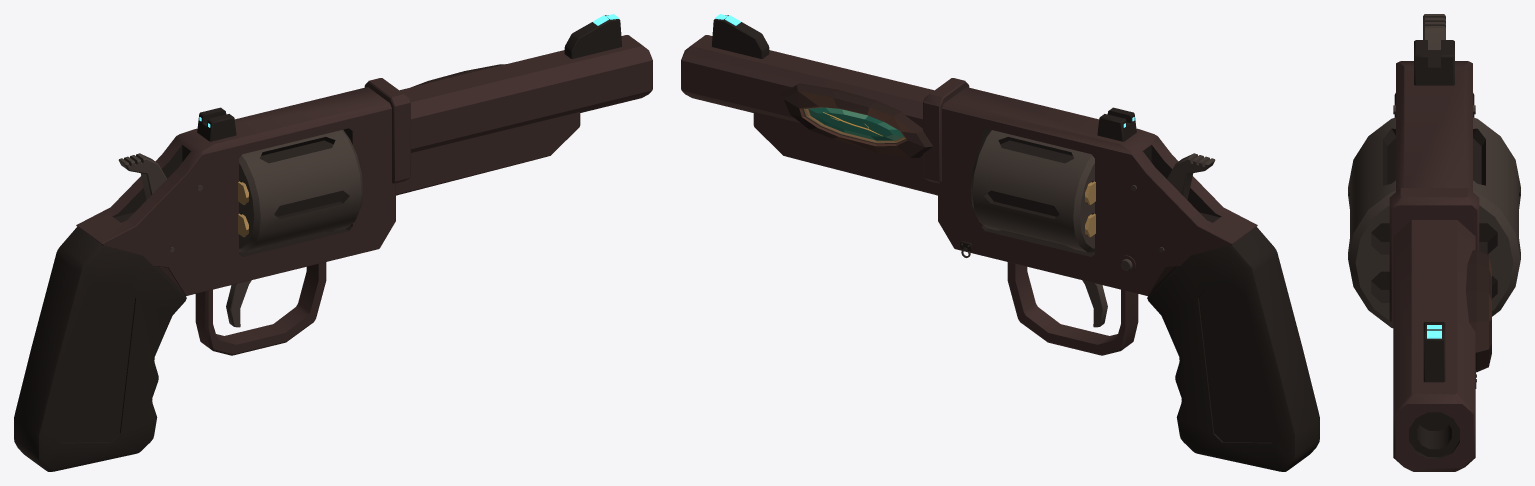
Rendered from Sheriff_Rootglass_v01.fbx.
3 views of the same model, side by side, from view 1: azimuth 30°, elevation 25°; view 2: azimuth 150°, elevation 25°; view 3: azimuth 270°, elevation 25° (orthographic). The views are drawn at different scales.
Visible parts, largest first — view 1: Sheriff_Frame, Sheriff_Grip, Sheriff_Barrel, Sheriff_Cylinder, Sheriff_Sights, Sheriff_Hammer, Sheriff_Trigger; view 2: Sheriff_Frame, Sheriff_Grip, Sheriff_Barrel, Sheriff_Cylinder, Rootglass_Left_CarvedShell, Sheriff_Sights, Rootglass_Left_FacetedMineral, Sheriff_Hammer, Sheriff_Trigger; view 3: Sheriff_Barrel, Sheriff_Cylinder, Sheriff_Frame, Sheriff_Sights, Rootglass_Left_CarvedShell, Sheriff_Hammer, Sheriff_Neon.
Part boxes in pixels (box(x1,y1,x2,y2)): Sheriff_Frame: box(76, 78, 410, 355); Sheriff_Grip: box(14, 227, 186, 471); Sheriff_Barrel: box(396, 35, 652, 195); Sheriff_Cylinder: box(239, 130, 363, 252); Sheriff_Sights: box(197, 15, 622, 141); Sheriff_Hammer: box(118, 153, 166, 199); Sheriff_Trigger: box(226, 280, 251, 327); Sheriff_Frame: box(923, 78, 1257, 355); Sheriff_Grip: box(1147, 227, 1319, 471); Sheriff_Barrel: box(681, 35, 937, 195); Sheriff_Cylinder: box(970, 130, 1094, 252); Rootglass_Left_CarvedShell: box(781, 83, 932, 157); Sheriff_Sights: box(711, 15, 1136, 141); Rootglass_Left_FacetedMineral: box(808, 107, 903, 140); Sheriff_Hammer: box(1167, 153, 1215, 199); Sheriff_Trigger: box(1082, 280, 1107, 327); Sheriff_Barrel: box(1393, 220, 1475, 471); Sheriff_Cylinder: box(1348, 117, 1520, 328); Sheriff_Frame: box(1389, 61, 1479, 322); Sheriff_Sights: box(1414, 40, 1454, 382); Rootglass_Left_CarvedShell: box(1466, 250, 1491, 372); Sheriff_Hammer: box(1423, 14, 1445, 49); Sheriff_Neon: box(1427, 325, 1441, 338).
Size of the model in its own units: 176 by 85.05 by 28.6.
